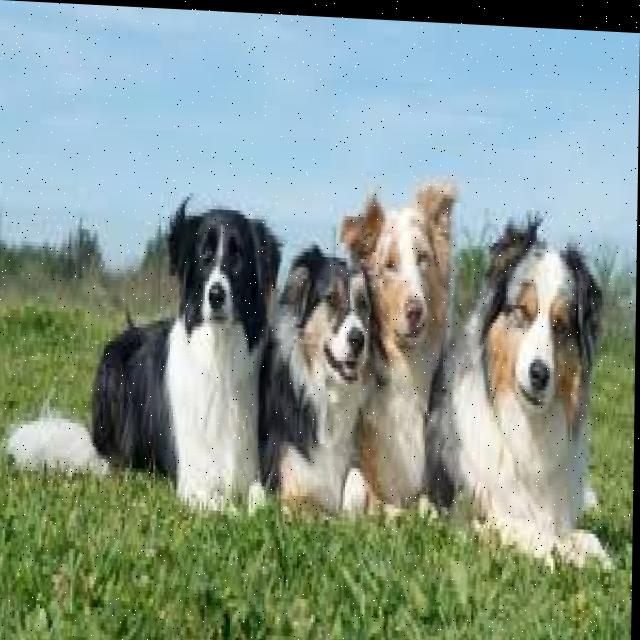BORDER_COLLIE: (3, 177, 281, 508), (335, 153, 466, 535)
